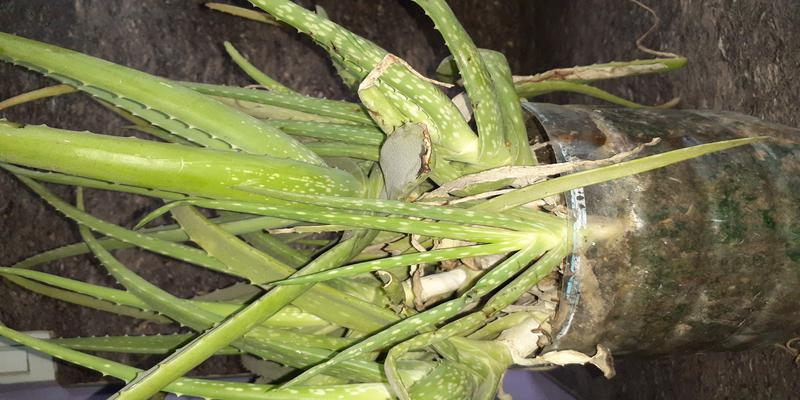Aloevera: (75, 52, 563, 395)
